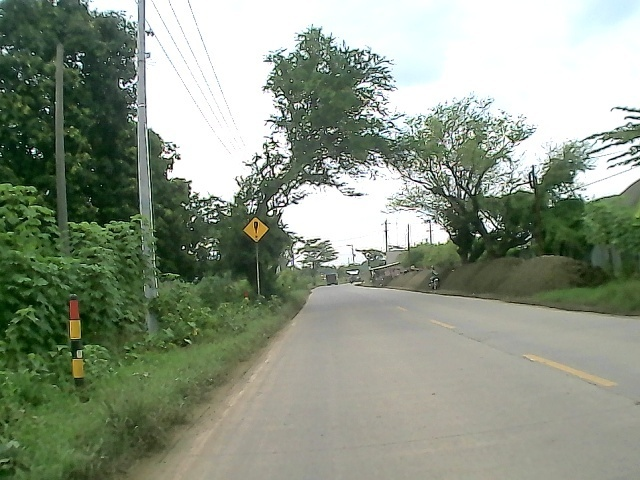Hati-hati: (241, 216, 271, 246)
